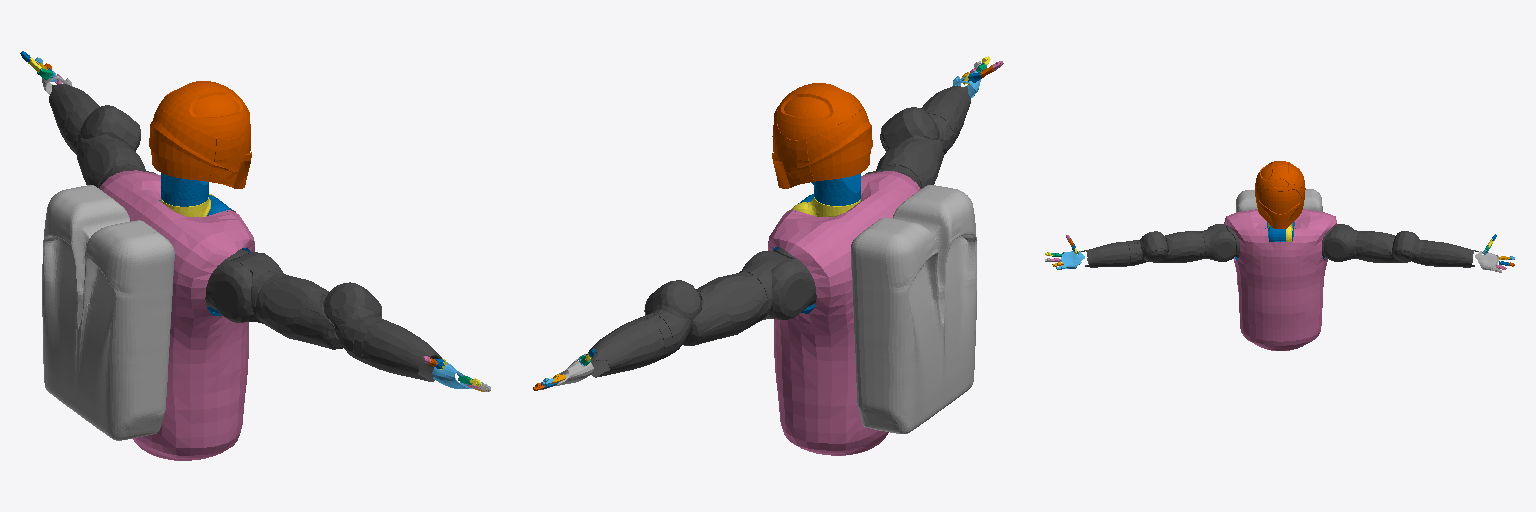
--- What the picture shows (computed from the rendered views, not written in the file) ---
Views: 3 orthographic renders of the robot side by side, from view 1: azimuth 30°, elevation 25°; view 2: azimuth 150°, elevation 25°; view 3: azimuth 270°, elevation 25°.
Model r2 with 74 links and 73 joints (42 revolute, 31 fixed), rooted at r2/world_ref, posed joints at zero except 2 at the middle of their limits (r2/left_arm/joint2 = -2.42, r2/right_arm/joint2 = 2.42).
Links seen in each view (by area): view 1: r2/backpack, r2/body_cover, r2/head, r2/right_upper_arm, r2/right_lower_arm, r2/right_shoulder_roll, r2/right_elbow, r2/left_upper_arm, r2/left_elbow, r2/left_lower_arm, r2/neck_upper, r2/right_shoulder_pitch; view 2: r2/backpack, r2/body_cover, r2/head, r2/left_upper_arm, r2/left_lower_arm, r2/left_shoulder_roll, r2/left_elbow, r2/right_upper_arm, r2/right_elbow, r2/right_lower_arm, r2/neck_upper, r2/left_shoulder_pitch (+1 smaller); view 3: r2/body_cover, r2/head, r2/right_upper_arm, r2/left_upper_arm, r2/right_lower_arm, r2/left_lower_arm, r2/left_shoulder_pitch, r2/right_shoulder_pitch, r2/backpack, r2/left_elbow, r2/right_elbow.
Link boxes in pixels (x1,y1,x2,y2): r2/backpack: [42, 185, 174, 440]; r2/body_cover: [99, 170, 254, 460]; r2/head: [149, 81, 251, 188]; r2/right_upper_arm: [256, 273, 381, 349]; r2/right_lower_arm: [353, 317, 441, 381]; r2/right_shoulder_roll: [205, 249, 255, 322]; r2/right_elbow: [324, 282, 380, 359]; r2/left_upper_arm: [77, 129, 145, 187]; r2/left_elbow: [66, 105, 140, 154]; r2/left_lower_arm: [49, 84, 99, 149]; r2/neck_upper: [161, 173, 208, 206]; r2/right_shoulder_pitch: [232, 252, 283, 323]; r2/backpack: [851, 185, 976, 433]; r2/body_cover: [768, 171, 920, 455]; r2/head: [772, 83, 872, 188]; r2/left_upper_arm: [644, 272, 767, 345]; r2/left_lower_arm: [586, 314, 672, 377]; r2/left_shoulder_roll: [768, 248, 816, 319]; r2/left_elbow: [645, 280, 701, 355]; r2/right_upper_arm: [876, 128, 943, 187]; r2/right_elbow: [881, 107, 953, 154]; r2/right_lower_arm: [921, 86, 970, 147]; r2/neck_upper: [811, 173, 860, 205]; r2/left_shoulder_pitch: [739, 251, 791, 320]; r2/body_cover: [1224, 209, 1336, 350]; r2/head: [1255, 161, 1305, 228]; r2/right_upper_arm: [1144, 231, 1204, 262]; r2/left_upper_arm: [1356, 231, 1415, 262]; r2/right_lower_arm: [1081, 241, 1136, 267]; r2/left_lower_arm: [1424, 241, 1478, 267]; r2/left_shoulder_pitch: [1324, 226, 1359, 261]; r2/right_shoulder_pitch: [1201, 226, 1235, 261]; r2/backpack: [1236, 189, 1322, 284]; r2/left_elbow: [1392, 231, 1427, 264]; r2/right_elbow: [1133, 231, 1167, 264].
Bounding box of the posed robot: 0.6249 × 2.36 × 1.02 m (x, y, z).
38 mesh visuals loaded from 25 distinct referenced files (25 Collada DAE).

URDF robot description (r2):
<?xml version="1.0" ?>
<!-- =================================================================================== -->
<!-- |    This document was autogenerated by xacro from ./robots/r2c5_control.xacro    | -->
<!-- |    EDITING THIS FILE BY HAND IS NOT RECOMMENDED                                 | -->
<!-- =================================================================================== -->
<robot name="r2" xmlns:xacro="http://www.ros.org/wiki/xacro">
  <link name="r2/world_ref"/>
  <joint name="r2/fixed/world_ref/robot_world" type="fixed">
    <parent link="r2/world_ref"/>
    <child link="r2/robot_world"/>
    <origin rpy="0 0 0" xyz="0 0 0"/>
  </joint>
  <link name="r2/robot_world">
    <inertial>
      <mass value="0.01"/>
      <inertia ixx="0.0001" ixy="0.0" ixz="0.0" iyy="0.0001" iyz="0.0" izz="0.0001"/>
    </inertial>
  </link>
  <joint name="r2/fixed/robot_world/robot_base" type="fixed">
    <parent link="r2/robot_world"/>
    <child link="r2/robot_base"/>
    <origin rpy="0.0 3.14159 3.14159" xyz="0.0 0.0 0.0"/>
  </joint>
  <link name="r2/robot_base">
    <inertial>
      <mass value="0.01"/>
      <inertia ixx="0.0001" ixy="0.0" ixz="0.0" iyy="0.0001" iyz="0.0" izz="0.0001"/>
    </inertial>
  </link>
  <material name="white">
    <color rgba="1.0 1.0 1.0 1.0"/>
  </material>
  <material name="dirty_white">
    <color rgba="0.322 0.322 0.322 1.0"/>
  </material>
  <material name="gold">
    <color rgba=".878 .49 0.008 1"/>
  </material>
  <material name="steel">
    <color rgba=".7 .7 .7 1"/>
  </material>
  <material name="blue">
    <color rgba="0 0 0.8 1"/>
  </material>
  <joint name="r2/fixed/robot_base/waist_mass" type="fixed">
    <parent link="r2/robot_base"/>
    <child link="r2/waist_mass"/>
    <origin rpy="0.0 0 0.0" xyz="0.0 0.0 -0.086855"/>
  </joint>
  <link name="r2/waist_mass">
    <inertial>
      <mass value="4.6259465"/>
      <origin rpy="0.0 0 0.0" xyz="-0.00012809088 0.000041480778 0.039080994"/>
      <inertia ixx="0.01684448" ixy="0.00021529806" ixz="-0.0000036013959" iyy="0.017313387" iyz="0.0" izz="0.028769348"/>
    </inertial>
  </link>
  <joint name="r2/waist/joint0" type="revolute">
    <parent link="r2/robot_base"/>
    <child link="r2/waist_center"/>
    <axis xyz="0 0 1"/>
    <origin rpy="0.0 0 0.0" xyz="0.0 0.0 0.0"/>
    <dynamics damping="10.0" friction="0.0"/>
    <limit effort="10000000.0" lower="-3.14" upper="3.14" velocity="1000"/>
  </joint>
  <!--includes mass properties of all torso componenents-->
  <link name="r2/waist_center">
    <visual>
      <geometry>
        <mesh filename="package://r2_description/meshes/r2_upperbody/Body.dae"/>
      </geometry>
      <origin rpy="-1.5708 0 -1.5708" xyz="0.02 0.05 -0.5625"/>
    </visual>
    <collision>
      <geometry>
        <mesh filename="package://r2_description/meshes/r2_upperbody/Body.dae"/>
      </geometry>
      <origin rpy="-1.5708 0 -1.5708" xyz="0.02 0.05 -0.5625"/>
    </collision>
    <inertial>
      <mass value="47.770842"/>
      <origin rpy="0.0 0 0.0" xyz="-0.020473299 0.0039268948 -0.36456539"/>
      <inertia ixx="1.9926945" ixy="-0.0069480619" ixz="-0.059104048" iyy="1.8449528" iyz="0.01958974" izz="0.69736445"/>
    </inertial>
  </link>
  <joint name="r2/fixed/waist_center/robot_reference" type="fixed">
    <parent link="r2/waist_center"/>
    <child link="r2/robot_reference"/>
    <origin rpy="0.0 0 0.0" xyz="0.1234 0.0 0.0"/>
  </joint>
  <joint name="r2/fixed/waist_center/body_cover" type="fixed">
    <parent link="r2/waist_center"/>
    <child link="r2/body_cover"/>
    <origin rpy="0.0 0.0 0.0" xyz="0 0.0 0.0"/>
  </joint>
  <joint name="r2/fixed/waist_center/backpack" type="fixed">
    <parent link="r2/waist_center"/>
    <child link="r2/backpack"/>
    <origin rpy="0.0 0.0 0.0" xyz="-0.145521 0.0 -0.421894"/>
  </joint>
  <joint name="r2/fixed/waist_center/left_shoulder_jr3" type="fixed">
    <parent link="r2/waist_center"/>
    <child link="r2/left_arm/shoulder/jr3"/>
    <origin rpy="0.0 0.0 1.8326" xyz="-0.0240898 -0.0996837 -0.413899"/>
  </joint>
  <joint name="r2/fixed/waist_center/right_shoulder_jr3" type="fixed">
    <parent link="r2/waist_center"/>
    <child link="r2/right_arm/shoulder/jr3"/>
    <origin rpy="0.0 0.0 -1.83259" xyz="-0.0240898 0.0996837 -0.413899"/>
  </joint>
  <link name="r2/robot_reference">
    <inertial>
      <mass value="0.01"/>
      <inertia ixx="0.0001" ixy="0.0" ixz="0.0" iyy="0.0001" iyz="0.0" izz="0.0001"/>
    </inertial>
  </link>
  <link name="r2/body_cover">
    <visual>
      <geometry>
        <mesh filename="package://r2_description/meshes/r2_upperbody/Body_Cover.dae"/>
      </geometry>
      <origin rpy="-1.5708 0 -1.5708" xyz="0.02 0.05 -0.5625"/>
    </visual>
    <collision>
      <geometry>
        <mesh filename="package://r2_description/meshes/r2_upperbody/Body_Cover.dae"/>
      </geometry>
      <origin rpy="-1.5708 0 -1.5708" xyz="0.02 0.05 -0.5625"/>
    </collision>
    <inertial>
      <mass value="0.1"/>
      <inertia ixx="0.001" ixy="0.0" ixz="0.0" iyy="0.001" iyz="0.0" izz="0.001"/>
    </inertial>
  </link>
  <link name="r2/backpack">
    <visual>
      <geometry>
        <mesh filename="package://r2_description/meshes/r2_upperbody/Backpack.dae"/>
      </geometry>
      <origin rpy="0 0 0.25" xyz="0.145521 0.0 -0.118106"/>
    </visual>
    <collision>
      <geometry>
        <mesh filename="package://r2_description/meshes/r2_upperbody/Backpack.dae"/>
      </geometry>
      <origin rpy="0 0 0.25" xyz="0.145521 0.0 -0.118106"/>
    </collision>
    <inertial>
      <mass value="23.505356"/>
      <origin rpy="0.0 0 0.0" xyz="-0.068110236 0.00026288234 -0.015523324"/>
      <inertia ixx="0.87608758" ixy="0.0031949152" ixz="-0.0042079052" iyy="0.57168416" iyz="0.0067562903" izz="0.41612859"/>
    </inertial>
  </link>
  <link name="r2/left_arm/shoulder/jr3">
    <inertial>
      <mass value="0.01"/>
      <inertia ixx="0.0001" ixy="0.0" ixz="0.0" iyy="0.0001" iyz="0.0" izz="0.0001"/>
    </inertial>
  </link>
  <link name="r2/right_arm/shoulder/jr3">
    <inertial>
      <mass value="0.01"/>
      <inertia ixx="0.0001" ixy="0.0" ixz="0.0" iyy="0.0001" iyz="0.0" izz="0.0001"/>
    </inertial>
  </link>
  <link name="r2/imu">
    <inertial>
      <mass value="0.01"/>
      <inertia ixx="0.0001" ixy="0.0" ixz="0.0" iyy="0.0001" iyz="0.0" izz="0.0001"/>
    </inertial>
  </link>
  <joint name="r2/fixed/robot_base/imu" type="fixed">
    <parent link="r2/waist_center"/>
    <child link="r2/imu"/>
    <origin rpy="1.5708 0 0" xyz="0.017351 -0.116179 -0.112236"/>
  </joint>
  <joint name="r2/neck/joint0" type="revolute">
    <parent link="r2/waist_center"/>
    <child link="r2/neck_lower"/>
    <origin rpy=" -1.5708 0.0 0.0 " xyz=" 0.08636 -0.0285749 -0.614172 "/>
    <dynamics damping="10.0" friction="0.0"/>
    <axis xyz="0 0 1"/>
    <limit effort="10000.0" lower="-0.7" upper="0.175" velocity="1000.0"/>
  </joint>
  <link name="r2/neck_lower">
    <visual>
      <geometry>
        <mesh filename="package://r2_description/meshes/r2_upperbody/Neck_Lower.dae"/>
      </geometry>
      <origin rpy="-1.5708 1.5708 0" xyz="0.0 0.0 0.0285749"/>
    </visual>
    <inertial>
      <mass value="1.531125"/>
      <origin rpy="0 0 0" xyz="-0.044614256 0.031785824 0.021419445"/>
      <inertia ixx="0.0032988044" ixy="0.0014889073" ixz="0.0004970659" iyy="0.0050478224" iyz="-0.00036827305" izz="0.0052160286"/>
    </inertial>
    <collision>
      <geometry>
        <mesh filename="package://r2_description/meshes/r2_upperbody/Neck_Lower.dae"/>
      </geometry>
      <origin rpy="-1.5708 1.5708 0" xyz="0.0 0.0 0.0285749"/>
    </collision>
  </link>
  <joint name="r2/neck/joint1" type="revolute">
    <parent link="r2/neck_lower"/>
    <child link="r2/neck_upper"/>
    <origin rpy=" -1.5708 0.0 0.0 " xyz=" -0.0762002 0.0762004 0.028575"/>
    <dynamics damping="10.0" friction="0.0"/>
    <axis xyz="0 0 1"/>
    <limit effort="10000.0" lower="-1.22" upper="1.22" velocity="1000.0"/>
  </joint>
  <link name="r2/neck_upper">
    <visual>
      <geometry>
        <mesh filename="package://r2_description/meshes/r2_upperbody/Neck_Upper.dae"/>
      </geometry>
      <origin rpy="0 0 1.5708" xyz="0.0762002 0 -0.0762004"/>
    </visual>
    <inertial>
      <mass value="2.234558"/>
      <origin rpy="0 0 0" xyz="0.0127259 0.0072291452 0.048896507"/>
      <inertia ixx="0.0074125667" ixy="-0.00042898316" ixz="-0.0014528455" iyy="0.0080268117" iyz="-0.00076230267" izz="0.00051467581"/>
    </inertial>
    <collision>
      <geometry>
        <mesh filename="package://r2_description/meshes/r2_upperbody/Neck_Upper.dae"/>
      </geometry>
      <origin rpy="0 0 1.5708" xyz="0.0762002 0 -0.0762004"/>
    </collision>
  </link>
  <joint name="r2/neck/joint2" type="revolute">
    <parent link="r2/neck_upper"/>
    <child link="r2/head"/>
    <origin rpy=" 1.5708 0.0 0.0 " xyz="0.0508 0.0074676 0.101587"/>
    <dynamics damping="10.0" friction="0.0"/>
    <axis xyz="0 0 1"/>
    <limit effort="10000.0" lower="-0.7" upper="0.175" velocity="1000.0"/>
  </joint>
  <link name="r2/head">
    <visual>
      <geometry>
        <mesh filename="package://r2_description/meshes/r2_upperbody/Head.dae"/>
      </geometry>
      <origin rpy="0 1.5708 0" xyz="0.0 0.07 0.0074676"/>
    </visual>
    <collision>
      <geometry>
        <mesh filename="package://r2_description/meshes/r2_upperbody/Head.dae"/>
      </geometry>
      <origin rpy="0 1.5708 0" xyz="0.0 0.07 0.0074676"/>
    </collision>
    <inertial>
      <mass value="5.8503785"/>
      <origin rpy="0 0 0" xyz="0.0048289919 0.074486518 0.013796703"/>
      <inertia ixx="0.045520172" ixy="0.0076844267" ixz="0.0005272352" iyy="0.035519354" iyz="0.001323319" izz="0.044699541"/>
    </inertial>
  </link>
  <joint name="r2/fixed/head/vision_base" type="fixed">
    <parent link="r2/head"/>
    <child link="r2/head/vision_base"/>
    <origin rpy=" 1.5708 0.0 0.0 " xyz=" 0.0 -0.058 0.0074676"/>
  </joint>
  <link name="r2/head/vision_base">
    <inertial>
      <mass value=".1"/>
      <inertia ixx=".0010" ixy="0.0" ixz="0.0" iyy=".0010" iyz="0.0" izz=".0010"/>
    </inertial>
  </link>
  <joint name="r2/fixed/head/vision_base/asus_frame" type="fixed">
    <parent link="r2/head/vision_base"/>
    <child link="r2/head/asus_frame"/>
    <origin rpy="-3.142 -0.071 0" xyz="0.12 -0.015 -0.14"/>
  </joint>
  <link name="r2/head/asus_frame">
    <inertial>
      <mass value="0.01"/>
      <inertia ixx="0.0001" ixy="0.0" ixz="0.0" iyy="0.0001" iyz="0.0" izz="0.0001"/>
    </inertial>
  </link>
  <joint name="r2/fixed/head/asus_frame/asus_depth_frame" type="fixed">
    <parent link="r2/head/asus_frame"/>
    <child link="r2/head/asus_depth_frame"/>
    <origin rpy="0 0 0 " xyz="0 -0.02 0 "/>
  </joint>
  <link name="r2/head/asus_depth_frame">
    <inertial>
      <mass value="0.01"/>
      <inertia ixx="0.0001" ixy="0.0" ixz="0.0" iyy="0.0001" iyz="0.0" izz="0.0001"/>
    </inertial>
  </link>
  <joint name="r2/fixed/head/vision_base/vision_center_frame" type="fixed">
    <parent link="r2/head/vision_base"/>
    <child link="r2/head/vision_center_frame"/>
    <dynamics damping="1.0"/>
    <origin rpy="1.5708 -1.5708 1.5708" xyz=" 0.066675 0.0 -0.116205 "/>
  </joint>
  <link name="r2/head/vision_center_frame">
    <inertial>
      <mass value="0.01"/>
      <inertia ixx="0.0001" ixy="0.0" ixz="0.0" iyy="0.0001" iyz="0.0" izz="0.0001"/>
    </inertial>
  </link>
  <joint name="r2/fixed/head/vision_center_frame/left_camera_frame" type="fixed">
    <parent link="r2/head/vision_center_frame"/>
    <child link="r2/head/left_camera_frame"/>
    <dynamics damping="1.0"/>
    <origin rpy="0 0 0" xyz="0.0087 0.04887 0.01789"/>
  </joint>
  <link name="r2/head/left_camera_frame">
    <inertial>
      <mass value="0.01"/>
      <inertia ixx="0.0001" ixy="0.0" ixz="0.0" iyy="0.0001" iyz="0.0" izz="0.0001"/>
    </inertial>
  </link>
  <joint name="r2/fixed/head/vision_center_frame/left_camera_frame/left_camera" type="fixed">
    <parent link="r2/head/left_camera_frame"/>
    <child link="r2/head/grasshopper/left_camera"/>
    <dynamics damping="1.0"/>
    <origin rpy="0 0 -1.5708" xyz="0 0 0"/>
  </joint>
  <link name="r2/head/grasshopper/left_camera">
    <inertial>
      <mass value="0.01"/>
      <inertia ixx="0.0001" ixy="0.0" ixz="0.0" iyy="0.0001" iyz="0.0" izz="0.0001"/>
    </inertial>
  </link>
  <joint name="r2/fixed/head/vision_center_frame/right_camera_frame" type="fixed">
    <parent link="r2/head/vision_center_frame"/>
    <child link="r2/head/right_camera_frame"/>
    <dynamics damping="1.0"/>
    <origin rpy="0 0 0" xyz="0.0087 -0.04887 0.01789"/>
  </joint>
  <link name="r2/head/right_camera_frame">
    <inertial>
      <mass value="0.01"/>
      <inertia ixx="0.0001" ixy="0.0" ixz="0.0" iyy="0.0001" iyz="0.0" izz="0.0001"/>
    </inertial>
  </link>
  <joint name="r2/fixed/head/vision_center_frame/right_camera_frame/right_camera" type="fixed">
    <parent link="r2/head/right_camera_frame"/>
    <child link="r2/head/grasshopper/right_camera"/>
    <dynamics damping="1.0"/>
    <origin rpy="0 0 -1.5708" xyz="0 0 0"/>
  </joint>
  <link name="r2/head/grasshopper/right_camera">
    <inertial>
      <mass value="0.01"/>
      <inertia ixx="0.0001" ixy="0.0" ixz="0.0" iyy="0.0001" iyz="0.0" izz="0.0001"/>
    </inertial>
  </link>
  <joint name="r2/left_arm/joint0" type="revolute">
    <parent link="r2/left_arm/shoulder/jr3"/>
    <child link="r2/left_shoulder_roll"/>
    <origin rpy="0.0 -1.5708 0.0" xyz="0.0054611 0.0 -0.13041"/>
    <axis xyz="0 0 1"/>
    <dynamics damping="10.0" friction="0.0"/>
    <limit effort="100.0" lower="-2.8270" upper="2.8270" velocity="1000"/>
  </joint>
  <link name="r2/left_shoulder_roll">
    <visual>
      <geometry>
        <mesh filename="package://r2_description/meshes/r2_upperbody/Left_Shoulder_Upper.dae"/>
      </geometry>
      <material name="dirty_white"/>
      <origin rpy="0.0 0.0 3.1416" xyz="0.0 0.0 -0.01274"/>
    </visual>
    <collision>
      <geometry>
        <mesh filename="package://r2_description/meshes/r2_upperbody/Left_Shoulder_Upper.dae"/>
      </geometry>
      <origin rpy="0.0 0.0 3.1416" xyz="0.0 0.0 -0.01274"/>
    </collision>
    <inertial>
      <origin xyz="0.00017093234 -0.0087284787   -0.10884506"/>
      <mass value="7.070314"/>
      <inertia ixx="0.076584602" ixy="0.000086319951" ixz="0.00054609047" iyy="0.08016999" iyz="0.0066841031" izz="0.02390013"/>
    </inertial>
  </link>
  <joint name="r2/left_arm/joint1" type="revolute">
    <parent link="r2/left_shoulder_roll"/>
    <child link="r2/left_shoulder_pitch"/>
    <origin rpy=" 0.0 -1.5708 1.5708" xyz=" 0.0 0.0466596 0.210022 "/>
    <axis xyz="0 0 1"/>
    <dynamics damping="10.0" friction="0.0"/>
    <limit effort="100.0" lower="-1.6758" upper="0.4292" velocity="1000"/>
  </joint>
  <link name="r2/left_shoulder_pitch">
    <visual>
      <geometry>
        <mesh filename="package://r2_description/meshes/r2_upperbody/Left_Shoulder_Lower.dae"/>
      </geometry>
      <material name="dirty_white"/>
      <origin rpy="0.0 0.0 0.0" xyz="0.0 0.0 0.0466596"/>
    </visual>
    <collision>
      <geometry>
        <mesh filename="package://r2_description/meshes/r2_upperbody/Left_Shoulder_Lower.dae"/>
      </geometry>
      <origin rpy="0.0 0.0 0.0" xyz="0.0 0.0 0.0466596"/>
    </collision>
    <inertial>
      <origin xyz="0.034871718 0.00026989995  -0.056391797"/>
      <mass value="4.7275387"/>
      <inertia ixx="0.01281093" ixy="-0.000025211205" ixz="-0.0019887882" iyy="0.026994354" iyz="-0.000056988895" izz="0.028670313"/>
    </inertial>
  </link>
  <joint name="r2/left_arm/joint2" type="revolute">
    <parent link="r2/left_shoulder_pitch"/>
    <child link="r2/left_upper_arm"/>
    <origin rpy="-1.5708 0.0 -1.5708" xyz="0.169324 0 0.0458976"/>
    <axis xyz="0 0 1"/>
    <dynamics damping="10.0" friction="0.0"/>
    <limit effort="100.0" lower="-4.5028" upper="-0.3318" velocity="1000"/>
  </joint>
  <link name="r2/left_upper_arm">
    <visual>
      <geometry>
        <mesh filename="package://r2_description/meshes/r2_upperbody/Left_Upper_Arm.dae"/>
      </geometry>
      <material name="dirty_white"/>
      <origin rpy="0.0 0.0 0.0" xyz="0.0 0.0 -0.067724"/>
    </visual>
    <collision>
      <geometry>
        <mesh filename="package://r2_description/meshes/r2_upperbody/Left_Upper_Arm.dae"/>
      </geometry>
      <origin rpy="0.0 0.0 0.0" xyz="0.0 0.0 -0.067724"/>
    </collision>
    <inertial>
      <origin xyz="0.011979384 -0.0073390714 0.079871897"/>
      <mass value="4.9025709"/>
      <inertia ixx="0.044036190" ixy="0.0013812407" ixz="-0.0068318982" iyy="0.048358309" iyz="0.0035598559" izz="0.016564943"/>
    </inertial>
  </link>
  <joint name="r2/left_arm/joint3" type="revolute">
    <parent link="r2/left_upper_arm"/>
    <child link="r2/left_elbow"/>
    <origin rpy="0.0 -1.5708 1.5708" xyz="0.05334 0.0313243 0.185006"/>
    <axis xyz="0 0 1"/>
    <dynamics damping="1.0" friction="0.0"/>
    <limit effort="100.0" lower="-2.7930" upper="0.0" velocity="1000"/>
  </joint>
  <link name="r2/left_elbow">
    <visual>
      <geometry>
        <mesh filename="package://r2_description/meshes/r2_upperbody/Left_Elbow.dae"/>
      </geometry>
      <material name="dirty_white"/>
      <origin rpy="0 0.0 0" xyz="0 0 0.0313243"/>
    </visual>
    <collision>
      <geometry>
        <mesh filename="package://r2_description/meshes/r2_upperbody/Left_Elbow.dae"/>
      </geometry>
      <origin rpy="0 0.0 0" xyz="0.0 0.0 0.0313243"/>
    </collision>
    <inertial>
      <origin xyz="0.035398630 0.025517855  -0.036241795"/>
      <mass value="2.3377006"/>
      <inertia ixx="0.0067529558" ixy="-0.0026092481" ixz="-0.00060380235" iyy="0.0080987220" iyz="-0.00047453566" izz="0.009863562"/>
    </inertial>
  </link>
  <joint name="r2/left_arm/joint4" type="revolute">
    <parent link="r2/left_elbow"/>
    <child link="r2/left_joint4_output"/>
    <origin rpy="-0.9550 1.5708 -0.9550" xyz="0.0541223 0.0533300 0.0305397"/>
    <axis xyz="0 0 1"/>
    <dynamics damping="1.0" friction="0.0"/>
    <limit effort="100.0" lower="-1.5360" upper="4.6770" velocity="1000"/>
  </joint>
  <link name="r2/left_joint4_output">
    <inertial>
      <mass value="0.01"/>
      <inertia ixx="0.0001" ixy="0.0" ixz="0.0" iyy="0.0001" iyz="0.0" izz="0.0001"/>
    </inertial>
  </link>
  <joint name="r2/fixed/left_lower_arm/left_forearm_jr3" type="fixed">
    <parent link="r2/left_joint4_output"/>
    <child link="r2/left_arm/forearm/jr3"/>
    <origin rpy="3.1416 0.0 0.78539" xyz="0.0 0.0 0.0897574"/>
  </joint>
  <link name="r2/left_arm/forearm/jr3">
    <inertial>
      <mass value="0.01"/>
      <inertia ixx="0.0001" ixy="0.0" ixz="0.0" iyy="0.0001" iyz="0.0" izz="0.0001"/>
    </inertial>
  </link>
  <joint name="r2/fixed/left_lower_arm/left_forearm" type="fixed">
    <parent link="r2/left_arm/forearm/jr3"/>
    <child link="r2/left_lower_arm"/>
    <origin rpy="3.1416 0.0 0.7854" xyz="0.0 0.0 0.0897574"/>
  </joint>
  <link name="r2/left_lower_arm">
    <visual>
      <geometry>
        <mesh filename="package://r2_description/meshes/r2_upperbody/Left_Forearm.dae"/>
      </geometry>
      <material name="dirty_white"/>
      <origin rpy="0 0 1.5708" xyz="0 0.0 0.0458777"/>
    </visual>
    <collision>
      <geometry>
        <mesh filename="package://r2_description/meshes/r2_upperbody/Left_Forearm.dae"/>
      </geometry>
      <origin rpy="0 0 1.5708" xyz="0 0.0 0.0458777"/>
    </collision>
    <inertial>
      <origin xyz="0.0039950818 0.00044312736  0.16275601"/>
      <mass value="8.1525875"/>
      <inertia ixx="0.10706156" ixy="0.00070538028" ixz="-0.0061176777" iyy="0.11007507" iyz="0.0020551081" izz="0.015240452"/>
    </inertial>
  </link>
  <joint name="r2/left_arm/wrist/pitch" type="revolute">
    <parent link="r2/left_lower_arm"/>
    <child link="r2/left_wrist_pitch"/>
    <origin rpy="0 -1.5708 0.0 " xyz="0.000616510 0 0.301768"/>
    <axis xyz="0 0 1"/>
    <dynamics damping="1.0" friction="0.0"/>
    <limit effort="100.0" lower="-0.8" upper="0.8" velocity="1000"/>
  </joint>
  <link name="r2/left_wrist_pitch">
    <inertial>
      <origin xyz="0.0 0.0 0.0"/>
      <mass value="0.01"/>
      <inertia ixx="0.0001" ixy="0.0" ixz="0.0" iyy="0.0001" iyz="0.0" izz="0.0001"/>
    </inertial>
  </link>
  <joint name="r2/left_arm/wrist/yaw" type="revolute">
    <parent link="r2/left_wrist_pitch"/>
    <child link="r2/left_wrist_yaw"/>
    <origin rpy="1.5708 0.0646 -0.0802" xyz="0.00635 0 0.00041451"/>
    <axis xyz="0 0 1"/>
    <dynamics damping="1.0" friction="0.0"/>
    <limit effort="100.0" lower="-0.75" upper="0.15" velocity="1000"/>
  </joint>
  <link name="r2/left_wrist_yaw">
    <inertial>
      <origin xyz="0.0 0.0 0.0"/>
      <mass value="0.01"/>
      <inertia ixx="0.0001" ixy="0.0" ixz="0.0" iyy="0.0001" iyz="0.0" izz="0.0001"/>
    </inertial>
  </link>
  <joint name="r2/fixed/left_wrist_yaw/left_palm" type="fixed">
    <parent link="r2/left_wrist_yaw"/>
    <child link="r2/left_palm"/>
    <origin rpy=" 0.0 0.0 0" xyz=" 0.0 0.0 0.0 "/>
  </joint>
  <link name="r2/left_palm">
    <visual>
      <geometry>
        <mesh filename="package://r2_description/meshes/r2_upperbody/Left_Palm.dae"/>
      </geometry>
      <origin rpy="3.1416 0 1.5708" xyz="0.0 0.0 0.0"/>
    </visual>
    <collision>
      <geometry>
        <mesh filename="package://r2_description/meshes/r2_upperbody/Left_Palm.dae"/>
      </geometry>
      <origin rpy="3.1416 0 1.5708" xyz="0.0 0.0 0.0"/>
    </collision>
    <inertial>
      <mass value="0.01"/>
      <inertia ixx="0.0001" ixy="0.0" ixz="0.0" iyy="0.0001" iyz="0.0" izz="0.0001"/>
    </inertial>
  </link>
  <!--
  <property name="left_arm_hand_index_j3_damping" value= "0.1" />
  <property name="left_arm_hand_index_j3_friction" value= "0.0" />
-->
  <!--
  <property name="left_arm_hand_middle_j3_damping" value= "0.1" />
  <property name="left_arm_hand_middle_j3_friction" value= "0.0" />
-->
  <!--
  <property name="left_arm_hand_ring_j1_damping" value= "0.1" />
  <property name="left_arm_hand_ring_j1_friction" value= "0.0" />
  <property name="left_arm_hand_ring_j2_damping" value= "0.1" />
  <property name="left_arm_hand_ring_j2_friction" value= "0.0" />
-->
  <!--
  <property name="left_arm_hand_little_j1_damping" value= "0.1" />
  <property name="left_arm_hand_little_j1_friction" value= "0.0" />
  <property name="left_arm_hand_little_j2_damping" value= "0.1" />
  <property name="left_arm_hand_little_j2_friction" value= "0.0" />
-->
  <joint name="r2/left_arm/hand/thumb/roll" type="revolute">
    <parent link="r2/left_wrist_yaw"/>
    <child link="r2/left_thumb_base"/>
    <origin rpy=" -1.5708 0.0 1.30899702752 " xyz=" 0.03302 0.03048 0.00635 "/>
    <axis xyz="0 0 1"/>
    <limit effort="10000000.0" lower="-4" upper="4" velocity="1000"/>
    <dynamics damping="0.1" friction="0.0"/>
  </joint>
  <joint name="r2/fixed/left_index_base/left_index_base" type="fixed">
    <parent link="r2/left_wrist_yaw"/>
    <child link="r2/left_index_base"/>
    <origin rpy=" 0.0 0.0 0.122172725275 " xyz=" 0.0994646728 0.0271119346 -0.0161544 "/>
  </joint>
  <joint name="r2/left_arm/hand/index/yaw" type="revolute">
    <parent link="r2/left_index_base"/>
    <child link="r2/left_index_yaw"/>
    <origin rpy="0.0 0.0 0.0" xyz="0.0 0.0 0.0"/>
    <axis xyz="0 0 1"/>
    <limit effort="10000000.0" lower="-4" upper="4" velocity="1000"/>
    <dynamics damping="0.1" friction="0.0"/>
  </joint>
  <joint name="r2/fixed/left_middle_base/left_middle_base" type="fixed">
    <parent link="r2/left_wrist_yaw"/>
    <child link="r2/left_middle_base"/>
    <origin rpy=" 0.0 0.0 0.0 " xyz=" 0.10646537 0.00254 -0.0161544 "/>
  </joint>
  <joint name="r2/left_arm/hand/middle/yaw" type="revolute">
    <parent link="r2/left_middle_base"/>
    <child link="r2/left_middle_yaw"/>
    <origin rpy="0.0 0.0 0.0" xyz="0.0 0.0 0.0"/>
    <axis xyz="0 0 1"/>
    <limit effort="10000000.0" lower="-4" upper="4" velocity="1000"/>
    <dynamics damping="0.1" friction="0.0"/>
  </joint>
  <joint name="r2/left_arm/hand/ringlittle/ring" type="revolute">
    <parent link="r2/left_wrist_yaw"/>
    <child link="r2/left_ring_proximal"/>
    <origin rpy=" 1.5708 -0.0 -0.122172725275 " xyz=" 0.1084570602 -0.0197673468 -0.012319 "/>
    <axis xyz="0 0 1"/>
    <limit effort="10000000.0" lower="-4" upper="4" velocity="1000"/>
    <dynamics damping="0.1" friction="0.0"/>
  </joint>
  <joint name="r2/left_arm/hand/ringlittle/little" type="revolute">
    <parent link="r2/left_wrist_yaw"/>
    <child link="r2/left_little_proximal"/>
    <origin rpy=" 1.60570321374 -0.0872667473393 -0.17453258148 " xyz=" 0.094635701 -0.0403792436 -0.0060878212 "/>
    <axis xyz="0 0 1"/>
    <limit effort="10000000.0" lower="-4" upper="4" velocity="1000"/>
    <dynamics damping="0.1" friction="0.0"/>
  </joint>
  <link name="r2/left_thumb_base">
    <inertial>
      <mass value=".05"/>
      <inertia ixx=".0010" ixy="0.0" ixz="0.0" iyy=".0010" iyz="0.0" izz=".0010"/>
    </inertial>
  </link>
  <joint name="r2/fixed/left_thumb_base/left_thumb_proximal" type="fixed">
    <parent link="r2/left_thumb_base"/>
    <child link="r2/left_thumb_proximal"/>
    <origin rpy=" -1.5708 -0.0 0.0 " xyz=" 0.011938 0.0 0.0 "/>
  </joint>
  <link name="r2/left_thumb_proximal">
    <inertial>
      <mass value=".0010"/>
      <inertia ixx=".0010" ixy="0.0" ixz="0.0" iyy=".0010" iyz="0.0" izz=".0010"/>
    </inertial>
    <visual>
      <geometry>
        <mesh filename="package://r2_description/meshes/r2_upperbody/Left_Thumb_Carp.dae"/>
      </geometry>
      <origin rpy="-1.5708 0 0" xyz="-0.01 0.0 0.0"/>
    </visual>
    <collision>
      <geometry>
        <mesh filename="package://r2_description/meshes/r2_upperbody/Left_Thumb_Carp.dae"/>
      </geometry>
      <origin rpy="-1.5708 0 0" xyz="-0.01 0.0 0.0"/>
    </collision>
  </link>
  <joint name="r2/left_arm/hand/thumb/proximal" type="revolute">
    <parent link="r2/left_thumb_proximal"/>
    <child link="r2/left_thumb_medial_prime"/>
    <origin rpy=" 0.0 0.0 0.0 " xyz=" 0.0 0.0 0.0 "/>
    <axis xyz="0 0 1"/>
    <limit effort="10000000.0" lower="-4" upper="4" velocity="1000"/>
    <dynamics damping="0.1" friction="0.0"/>
  </joint>
  <link name="r2/left_thumb_medial_prime">
    <inertial>
      <mass value=".0010"/>
      <inertia ixx=".0010" ixy="0.0" ixz="0.0" iyy=".0010" iyz="0.0" izz=".0010"/>
    </inertial>
    <visual>
      <geometry>
        <mesh filename="package://r2_description/meshes/r2_upperbody/Left_Thumb_MtCar.dae"/>
      </geometry>
      <origin rpy="-1.5708 -1.5708 0" xyz="-0.0 0 0.0"/>
    </visual>
    <collision>
      <geometry>
        <mesh filename="package://r2_description/meshes/r2_upperbody/Left_Thumb_MtCar.dae"/>
      </geometry>
      <origin rpy="-1.5708 -1.5708 0" xyz="0.0 0.0 0.0"/>
    </collision>
  </link>
  <joint name="r2/left_arm/hand/thumb/medial" type="revolute">
    <parent link="r2/left_thumb_medial_prime"/>
    <child link="r2/left_thumb_medial"/>
    <origin rpy=" -0.698132284627 -0.0 0.0 " xyz=" 0.030734 -0.001905 0.00254 "/>
    <axis xyz="0 0 1"/>
    <limit effort="10000000.0" lower="-4" upper="4" velocity="1000"/>
    <dynamics damping="0.1" friction="0.0"/>
  </joint>
  <link name="r2/left_thumb_medial">
    <inertial>
      <mass value=".0010"/>
      <inertia ixx=".0010" ixy="0.0" ixz="0.0" iyy=".0010" iyz="0.0" izz=".0010"/>
    </inertial>
    <visual>
      <geometry>
        <mesh filename="package://r2_description/meshes/r2_upperbody/Thumb_Proximal.dae"/>
      </geometry>
      <origin rpy="3.1416 0 1.5708" xyz="0.0 0.0 0.0"/>
    </visual>
    <collision>
      <geometry>
        <mesh filename="package://r2_description/meshes/r2_upperbody/Thumb_Proximal.dae"/>
      </geometry>
      <origin rpy="3.1416 0 1.5708" xyz="0.0 0.0 0.0"/>
    </collision>
  </link>
  <joint name="r2/left_arm/hand/thumb/distal" type="revolute">
    <parent link="r2/left_thumb_medial"/>
    <child link="r2/left_thumb_distal"/>
    <origin rpy=" 0.0 0.0 0.0 " xyz=" 0.03937 0.0 0.0 "/>
    <axis xyz="0 0 1"/>
    <limit effort="10000000.0" lower="-4" upper="4" velocity="1000"/>
    <dynamics damping="0.1" friction="0.0"/>
  </joint>
  <link name="r2/left_thumb_distal">
    <inertial>
      <mass value=".0010"/>
      <inertia ixx=".0010" ixy="0.0" ixz="0.0" iyy=".0010" iyz="0.0" izz=".0010"/>
    </inertial>
    <visual>
      <geometry>
        <mesh filename="package://r2_description/meshes/r2_upperbody/Thumb_Dist.dae"/>
      </geometry>
      <origin rpy="3.1416 3.1416 0" xyz="0.0 0.0 0.0"/>
    </visual>
    <collision>
      <geometry>
        <mesh filename="package://r2_description/meshes/r2_upperbody/Thumb_Dist.dae"/>
      </geometry>
      <origin rpy="3.1416 3.1416 0" xyz="0.0 0.0 0.0"/>
    </collision>
  </link>
  <joint name="r2/fixed/left_thumb_distal/left_thumb_tip" type="fixed">
    <parent link="r2/left_thumb_distal"/>
    <child link="r2/left_thumb_tip"/>
    <origin rpy=" 0.0 0.0 0.0 " xyz=" 0.03302 0.0 0.0 "/>
  </joint>
  <link name="r2/left_thumb_tip">
    <inertial>
      <mass value=".0010"/>
      <inertia ixx=".0010" ixy="0.0" ixz="0.0" iyy=".0010" iyz="0.0" izz=".0010"/>
    </inertial>
  </link>
  <link name="r2/left_index_base">
    <inertial>
      <mass value=".0010"/>
      <inertia ixx=".0010" ixy="0.0" ixz="0.0" iyy=".0010" iyz="0.0" izz=".0010"/>
    </inertial>
  </link>
  <link name="r2/left_index_yaw">
    <inertial>
      <mass value=".0010"/>
      <inertia ixx=".0010" ixy="0.0" ixz="0.0" iyy=".0010" iyz="0.0" izz=".0010"/>
    </inertial>
  </link>
  <joint name="r2/left_arm/hand/index/proximal" type="revolute">
    <parent link="r2/left_index_yaw"/>
    <child link="r2/left_index_proximal"/>
    <origin rpy=" 1.5708 0.0 0.0 " xyz=" 0.009652 0.0 0.0 "/>
    <axis xyz="0 0 1"/>
    <limit effort="10000000.0" lower="-4" upper="4" velocity="1000"/>
    <dynamics damping="0.1" friction="0.0"/>
  </joint>
  <link name="r2/left_index_proximal">
    <inertial>
      <mass value=".0010"/>
      <inertia ixx=".0010" ixy="0.0" ixz="0.0" iyy=".0010" iyz="0.0" izz=".0010"/>
    </inertial>
    <visual>
      <geometry>
        <mesh filename="package://r2_description/meshes/r2_upperbody/Finger_Proximal.dae"/>
      </geometry>
      <origin rpy="0 0 1.5708" xyz="0.0 0.0 0.0"/>
    </visual>
    <collision>
      <geometry>
        <mesh filename="package://r2_description/meshes/r2_upperbody/Finger_Proximal.dae"/>
      </geometry>
      <origin rpy="0 0 1.5708" xyz="0.0 0.0 0.0"/>
    </collision>
  </link>
  <joint name="r2/left_arm/hand/index/medial" type="revolute">
    <parent link="r2/left_index_proximal"/>
    <child link="r2/left_index_medial"/>
    <origin rpy=" 0.0 0.0 0.0 " xyz=" 0.04445 0.0 0.0 "/>
    <axis xyz="0 0 1"/>
    <limit effort="10000000.0" lower="-4" upper="4" velocity="1000"/>
    <dynamics damping="0.1" friction="0.0"/>
  </joint>
  <link name="r2/left_index_medial">
    <inertial>
      <mass value=".0010"/>
      <inertia ixx=".0010" ixy="0.0" ixz="0.0" iyy=".0010" iyz="0.0" izz=".0010"/>
    </inertial>
    <visual>
      <geometry>
        <mesh filename="package://r2_description/meshes/r2_upperbody/Finger_Mid.dae"/>
      </geometry>
      <origin rpy="3.1416 0 1.5708" xyz="0.0 0.0 0.0"/>
    </visual>
    <collision>
      <geometry>
        <mesh filename="package://r2_description/meshes/r2_upperbody/Finger_Mid.dae"/>
      </geometry>
      <origin rpy="3.1416 0 1.5708" xyz="0.0 0.0 0.0"/>
    </collision>
  </link>
  <link name="r2/left_middle_base">
    <inertial>
      <mass value=".0010"/>
      <inertia ixx=".0010" ixy="0.0" ixz="0.0" iyy=".0010" iyz="0.0" izz=".0010"/>
    </inertial>
  </link>
  <link name="r2/left_middle_yaw">
    <inertial>
      <mass value=".0010"/>
      <inertia ixx=".0010" ixy="0.0" ixz="0.0" iyy=".0010" iyz="0.0" izz=".0010"/>
    </inertial>
  </link>
  <joint name="r2/left_arm/hand/middle/proximal" type="revolute">
    <parent link="r2/left_middle_yaw"/>
    <child link="r2/left_middle_proximal"/>
    <origin rpy=" 1.5708 0.0 0.0 " xyz=" 0.009652 0.0 0.0 "/>
    <axis xyz="0 0 1"/>
    <limit effort="10000000.0" lower="-4" upper="4" velocity="1000"/>
    <dynamics damping="0.1" friction="0.0"/>
  </joint>
  <link name="r2/left_middle_proximal">
    <inertial>
      <mass value=".0010"/>
      <inertia ixx=".0010" ixy="0.0" ixz="0.0" iyy=".0010" iyz="0.0" izz=".0010"/>
    </inertial>
    <visual>
      <geometry>
        <mesh filename="package://r2_description/meshes/r2_upperbody/Finger_Proximal.dae"/>
      </geometry>
      <origin rpy="0 0 1.5708" xyz="0.0 0.0 0.0"/>
    </visual>
    <collision>
      <geometry>
        <mesh filename="package://r2_description/meshes/r2_upperbody/Finger_Proximal.dae"/>
      </geometry>
      <origin rpy="0 0 1.5708" xyz="0.0 0.0 0.0"/>
    </collision>
  </link>
  <joint name="r2/left_arm/hand/middle/medial" type="revolute">
    <parent link="r2/left_middle_proximal"/>
    <child link="r2/left_middle_medial"/>
    <origin rpy=" 0.0 0.0 0.0 " xyz=" 0.04445 0.0 0.0 "/>
    <axis xyz="0 0 1"/>
    <limit effort="10000000.0" lower="-4" upper="4" velocity="1000"/>
    <dynamics damping="0.1" friction="0.0"/>
  </joint>
  <link name="r2/left_middle_medial">
    <inertial>
      <mass value=".0010"/>
      <inertia ixx=".0010" ixy="0.0" ixz="0.0" iyy=".0010" iyz="0.0" izz=".0010"/>
    </inertial>
    <visual>
      <geometry>
        <mesh filename="package://r2_description/meshes/r2_upperbody/Finger_Mid.dae"/>
      </geometry>
      <origin rpy="3.1416 0 1.5708" xyz="0.0 0.0 0.0"/>
    </visual>
    <collision>
      <geometry>
        <mesh filename="package://r2_description/meshes/r2_upperbody/Finger_Mid.dae"/>
      </geometry>
      <origin rpy="3.1416 0 1.5708" xyz="0.0 0.0 0.0"/>
    </collision>
  </link>
  <link name="r2/left_ring_proximal">
    <inertial>
      <mass value=".0010"/>
      <inertia ixx=".0010" ixy="0.0" ixz="0.0" iyy=".0010" iyz="0.0" izz=".0010"/>
    </inertial>
    <visual>
      <geometry>
        <mesh filename="package://r2_description/meshes/r2_upperbody/Finger_Proximal.dae"/>
      </geometry>
      <origin rpy="0 0 1.5708" xyz="0.0 0.0 0.0"/>
    </visual>
    <collision>
      <geometry>
        <mesh filename="package://r2_description/meshes/r2_upperbody/Finger_Proximal.dae"/>
      </geometry>
      <origin rpy="0 0 1.5708" xyz="0.0 0.0 0.0"/>
    </collision>
  </link>
  <link name="r2/left_little_proximal">
    <inertial>
      <mass value=".0010"/>
      <inertia ixx=".0010" ixy="0.0" ixz="0.0" iyy=".0010" iyz="0.0" izz=".0010"/>
    </inertial>
    <visual>
      <geometry>
        <mesh filename="package://r2_description/meshes/r2_upperbody/Finger_Proximal.dae"/>
      </geometry>
      <origin rpy="0 0 1.5708" xyz="0.0 0.0 0.0"/>
    </visual>
    <collision>
      <geometry>
        <mesh filename="package://r2_description/meshes/r2_upperbody/Finger_Proximal.dae"/>
      </geometry>
      <origin rpy="0 0 1.5708" xyz="0.0 0.0 0.0"/>
    </collision>
  </link>
  <joint name="r2/right_arm/joint0" type="revolute">
    <parent link="r2/right_arm/shoulder/jr3"/>
    <child link="r2/right_shoulder_roll"/>
    <origin rpy="0.0 -1.5708 0.0" xyz="0.0054611 0.0 -0.13041"/>
    <axis xyz="0 0 1"/>
    <dynamics damping="10.0" friction="0.0"/>
    <limit effort="100.0" lower="-2.8270" upper="2.8270" velocity="1000"/>
  </joint>
  <link name="r2/right_shoulder_roll">
    <visual>
      <geometry>
        <mesh filename="package://r2_description/meshes/r2_upperbody/Right_Shoulder_Upper.dae"/>
      </geometry>
      <material name="dirty_white"/>
      <origin rpy="0.0 0.0 -2.4624" xyz="0.0 0.0 -0.07734"/>
    </visual>
    <collision>
      <geometry>
        <mesh filename="package://r2_description/meshes/r2_upperbody/Right_Shoulder_Upper.dae"/>
      </geometry>
      <origin rpy="0.0 0.0 -2.4624" xyz="0.0 0.0 -0.07234"/>
    </collision>
    <inertial>
      <origin xyz="0.00017093234 -0.0087284787   -0.10884506"/>
      <mass value="7.070314"/>
      <inertia ixx="0.076584602" ixy="0.000086319951" ixz="0.00054609047" iyy="0.08016999" iyz="0.0066841031" izz="0.02390013"/>
    </inertial>
  </link>
  <joint name="r2/right_arm/joint1" type="revolute">
    <parent link="r2/right_shoulder_roll"/>
    <child link="r2/right_shoulder_pitch"/>
    <origin rpy=" 0.0 -1.5708 1.5708" xyz=" 0.0 -0.0466596 0.210022 "/>
    <axis xyz="0 0 1"/>
    <dynamics damping="10.0" friction="0.0"/>
    <limit effort="100.0" lower="-1.6758" upper="0.4292" velocity="1000"/>
  </joint>
  <link name="r2/right_shoulder_pitch">
    <visual>
      <geometry>
        <mesh filename="package://r2_description/meshes/r2_upperbody/Right_Shoulder_Lower.dae"/>
      </geometry>
      <material name="dirty_white"/>
      <origin rpy="0.0 0.0 0.0" xyz="0.0 0.0 -0.0466596"/>
    </visual>
    <collision>
      <geometry>
        <mesh filename="package://r2_description/meshes/r2_upperbody/Right_Shoulder_Lower.dae"/>
      </geometry>
      <origin rpy="0.0 0.0 0.0" xyz="0.0 0.0 -0.0466596"/>
    </collision>
    <inertial>
      <origin xyz="0.034871718 0.00026989995  -0.056391797"/>
      <mass value="4.7275387"/>
      <inertia ixx="0.01281093" ixy="-0.000025211205" ixz="-0.0019887882" iyy="0.026994354" iyz="-0.000056988895" izz="0.028670313"/>
    </inertial>
  </link>
  <joint name="r2/right_arm/joint2" type="revolute">
    <parent link="r2/right_shoulder_pitch"/>
    <child link="r2/right_upper_arm"/>
    <origin rpy="-1.5708 0.0 -1.5708" xyz="0.169324 0 -0.0458976"/>
    <axis xyz="0 0 1"/>
    <dynamics damping="10.0" friction="0.0"/>
    <limit effort="100.0" lower="0.3318" upper="4.5028" velocity="1000"/>
  </joint>
  <link name="r2/right_upper_arm">
    <visual>
      <geometry>
        <mesh filename="package://r2_description/meshes/r2_upperbody/Right_Upper_Arm.dae"/>
      </geometry>
      <material name="dirty_white"/>
      <origin rpy="0.0 0.0 0.0" xyz="0.0 0.0 -0.067724"/>
    </visual>
    <collision>
      <geometry>
        <mesh filename="package://r2_description/meshes/r2_upperbody/Right_Upper_Arm.dae"/>
      </geometry>
      <origin rpy="0.0 0.0 0.0" xyz="0.0 0.0 -0.067724"/>
    </collision>
    <inertial>
      <origin xyz="0.011979384 -0.0073390714 0.079871897"/>
      <mass value="4.9025709"/>
      <inertia ixx="0.044036190" ixy="0.0013812407" ixz="-0.0068318982" iyy="0.048358309" iyz="0.0035598559" izz="0.016564943"/>
    </inertial>
  </link>
  <joint name="r2/right_arm/joint3" type="revolute">
    <parent link="r2/right_upper_arm"/>
    <child link="r2/right_elbow"/>
    <origin rpy="0.0 -1.5708 1.5708" xyz="0.05334 -0.0313243 0.185006"/>
    <axis xyz="0 0 1"/>
    <dynamics damping="1.0" friction="0.0"/>
    <limit effort="100.0" lower="-2.7930" upper="0.0" velocity="1000"/>
  </joint>
  <link name="r2/right_elbow">
    <visual>
      <geometry>
        <mesh filename="package://r2_description/meshes/r2_upperbody/Right_Elbow.dae"/>
      </geometry>
      <material name="dirty_white"/>
      <origin rpy="0 0.0 0" xyz="0 0 -0.0313243"/>
    </visual>
    <collision>
      <geometry>
        <mesh filename="package://r2_description/meshes/r2_upperbody/Right_Elbow.dae"/>
      </geometry>
      <origin rpy="0 0.0 0" xyz="0 0 -0.0313243"/>
    </collision>
    <inertial>
      <origin xyz="0.035398630 0.025517855  -0.036241795"/>
      <mass value="2.3377006"/>
      <inertia ixx="0.0067529558" ixy="-0.0026092481" ixz="-0.00060380235" iyy="0.0080987220" iyz="-0.00047453566" izz="0.009863562"/>
    </inertial>
  </link>
  <joint name="r2/right_arm/joint4" type="revolute">
    <parent link="r2/right_elbow"/>
    <child link="r2/right_joint4_output"/>
    <origin rpy="-0.9550 1.5708 -0.9550" xyz="0.0541223 0.0533300 -0.0305397"/>
    <axis xyz="0 0 1"/>
    <dynamics damping="1.0" friction="0.0"/>
    <limit effort="100.0" lower="-4.6770" upper="1.5360" velocity="1000"/>
  </joint>
  <link name="r2/right_joint4_output">
    <inertial>
      <mass value="0.01"/>
      <inertia ixx="0.0001" ixy="0.0" ixz="0.0" iyy="0.0001" iyz="0.0" izz="0.0001"/>
    </inertial>
  </link>
  <joint name="r2/fixed/right_lower_arm/right_forearm_jr3" type="fixed">
    <parent link="r2/right_joint4_output"/>
    <child link="r2/right_arm/forearm/jr3"/>
    <origin rpy="3.1416 0.0 0.78539" xyz="0.0 0.0 0.0897574"/>
  </joint>
  <link name="r2/right_arm/forearm/jr3">
    <inertial>
      <mass value="0.01"/>
      <inertia ixx="0.0001" ixy="0.0" ixz="0.0" iyy="0.0001" iyz="0.0" izz="0.0001"/>
    </inertial>
  </link>
  <joint name="r2/fixed/right_lower_arm/right_forearm" type="fixed">
    <parent link="r2/right_arm/forearm/jr3"/>
    <child link="r2/right_lower_arm"/>
    <origin rpy="3.1416 0.0 0.7854" xyz="0.0 0.0 0.0897574"/>
  </joint>
  <link name="r2/right_lower_arm">
    <visual>
      <geometry>
        <mesh filename="package://r2_description/meshes/r2_upperbody/Right_Forearm.dae"/>
      </geometry>
      <material name="dirty_white"/>
      <origin rpy="0 0 1.5708" xyz="0 0.0 0.0458777"/>
    </visual>
    <collision>
      <geometry>
        <mesh filename="package://r2_description/meshes/r2_upperbody/Right_Forearm.dae"/>
      </geometry>
      <origin rpy="0 0 1.5708" xyz="0 0.0 0.0458777"/>
    </collision>
    <inertial>
      <origin xyz="0.0039950818 0.00044312736  0.16275601"/>
      <mass value="8.1525875"/>
      <inertia ixx="0.10706156" ixy="0.00070538028" ixz="-0.0061176777" iyy="0.11007507" iyz="0.0020551081" izz="0.015240452"/>
    </inertial>
  </link>
  <joint name="r2/right_arm/wrist/pitch" type="revolute">
    <parent link="r2/right_lower_arm"/>
    <child link="r2/right_wrist_pitch"/>
    <origin rpy="0 -1.5708 0" xyz="-0.000616510 0 0.301768"/>
    <axis xyz="0 0 1"/>
    <dynamics damping="1.0" friction="0.0"/>
    <limit effort="100.0" lower="-0.8" upper="0.8" velocity="1000"/>
  </joint>
  <link name="r2/right_wrist_pitch">
    <inertial>
      <origin xyz="0.0 0.0 0.0"/>
      <mass value="0.01"/>
      <inertia ixx=".0001" ixy="0.0" ixz="0.0" iyy="0.0001" iyz="0.0" izz="0.0001"/>
    </inertial>
  </link>
  <joint name="r2/right_arm/wrist/yaw" type="revolute">
    <parent link="r2/right_wrist_pitch"/>
    <child link="r2/right_wrist_yaw"/>
    <origin rpy="1.5708 0.0646 -0.0802" xyz="0.00635 0 -0.00041451"/>
    <axis xyz="0 0 1"/>
    <dynamics damping="1.0" friction="0.0"/>
    <limit effort="100.0" lower="-0.15" upper="0.75" velocity="1000"/>
  </joint>
  <link name="r2/right_wrist_yaw">
    <inertial>
      <origin xyz="0.0 0.0 0.0"/>
      <mass value="0.01"/>
      <inertia ixx="0.0001" ixy="0.0" ixz="0.0" iyy="0.0001" iyz="0.0" izz="0.0001"/>
    </inertial>
  </link>
  <joint name="r2/fixed/right_wrist_yaw/right_palm" type="fixed">
    <parent link="r2/right_wrist_yaw"/>
    <child link="r2/right_palm"/>
    <origin rpy=" 0.0 0.0 0" xyz=" 0.0 0.0 0.0"/>
  </joint>
  <link name="r2/right_palm">
    <visual>
      <geometry>
        <mesh filename="package://r2_description/meshes/r2_upperbody/Right_Palm.dae"/>
      </geometry>
      <origin rpy="3.1416 0 1.5708" xyz="0.0 0.0 0.0"/>
    </visual>
    <collision>
      <geometry>
        <mesh filename="package://r2_description/meshes/r2_upperbody/Right_Palm.dae"/>
      </geometry>
      <origin rpy="3.1416 0 1.5708" xyz="0.0 0.0 0.0"/>
    </collision>
    <inertial>
      <mass value="0.01"/>
      <inertia ixx="0.0001" ixy="0.0" ixz="0.0" iyy="0.0001" iyz="0.0" izz="0.0001"/>
    </inertial>
  </link>
  <!--
  <property name="right_arm_hand_index_j3_damping" value= "0.1" />
  <property name="right_arm_hand_index_j3_friction" value= "0.0" />
-->
  <!--
  <property name="right_arm_hand_middle_j3_damping" value= "0.1" />
  <property name="right_arm_hand_middle_j3_friction" value= "0.0" />
-->
  <!--
  <property name="right_arm_hand_ring_j1_damping" value= "0.1" />
  <property name="right_arm_hand_ring_j1_friction" value= "0.0" />
  <property name="right_arm_hand_ring_j2_damping" value= "0.1" />
  <property name="right_arm_hand_ring_j2_friction" value= "0.0" />
-->
  <!--
  <property name="right_arm_hand_little_j1_damping" value= "0.1" />
  <property name="right_arm_hand_little_j1_friction" value= "0.0" />
  <property name="right_arm_hand_little_j2_damping" value= "0.1" />
  <property name="right_arm_hand_little_j2_friction" value= "0.0" />
-->
  <joint name="r2/right_arm/hand/thumb/roll" type="revolute">
    <parent link="r2/right_wrist_yaw"/>
    <child link="r2/right_thumb_base"/>
    <origin rpy=" 1.5708 0.174532791018 -1.30899687745 " xyz="0.03302 -0.03048 0.00635 "/>
    <axis xyz="0 0 1"/>
    <limit effort="10000000.0" lower="-4" upper="4" velocity="1000"/>
    <dynamics damping="0.1" friction="0.0"/>
  </joint>
  <joint name="r2/fixed/right_index_base/right_index_base" type="fixed">
    <parent link="r2/right_wrist_yaw"/>
    <child link="r2/right_index_base"/>
    <origin rpy=" 0.0 0.0 -0.122172725275  " xyz=" 0.0994646728 -0.0271119346 -0.0161544 "/>
  </joint>
  <joint name="r2/right_arm/hand/index/yaw" type="revolute">
    <parent link="r2/right_index_base"/>
    <child link="r2/right_index_yaw"/>
    <origin rpy="0.0 0.0 0.0" xyz="0.0 0.0 0.0"/>
    <axis xyz="0 0 1"/>
    <limit effort="10000000.0" lower="-4" upper="4" velocity="1000"/>
    <dynamics damping="0.1" friction="0.0"/>
  </joint>
  <joint name="r2/fixed/right_middle_base/right_middle_base" type="fixed">
    <parent link="r2/right_wrist_yaw"/>
    <child link="r2/right_middle_base"/>
    <origin rpy=" 0.0 0.0 0.0 " xyz="0.10646537 -0.00254 -0.0161544 "/>
  </joint>
  <joint name="r2/right_arm/hand/middle/yaw" type="revolute">
    <parent link="r2/right_middle_base"/>
    <child link="r2/right_middle_yaw"/>
    <origin rpy="0.0 0.0 0.0" xyz="0.0 0.0 0.0"/>
    <axis xyz="0 0 1"/>
    <limit effort="10000000.0" lower="-4" upper="4" velocity="1000"/>
    <dynamics damping="0.1" friction="0.0"/>
  </joint>
  <joint name="r2/right_arm/hand/ringlittle/ring" type="revolute">
    <parent link="r2/right_wrist_yaw"/>
    <child link="r2/right_ring_proximal"/>
    <origin rpy=" 1.57079632679 -0.0 0.122172725275  " xyz=" 0.1084539614 0.019792569 -0.012319 "/>
    <axis xyz="0 0 1"/>
    <limit effort="10000000.0" lower="-4" upper="4" velocity="1000"/>
    <dynamics damping="0.1" friction="0.0"/>
  </joint>
  <joint name="r2/right_arm/hand/ringlittle/little" type="revolute">
    <parent link="r2/right_wrist_yaw"/>
    <child link="r2/right_little_proximal"/>
    <origin rpy=" 1.53588943985 -0.0872667473393 0.17453258148  " xyz=" 0.094635701 0.0403792436 -0.0060878212 "/>
    <axis xyz="0 0 1"/>
    <limit effort="10000000.0" lower="-4" upper="4" velocity="1000"/>
    <dynamics damping="0.1" friction="0.0"/>
  </joint>
  <link name="r2/right_thumb_base">
    <inertial>
      <mass value=".05"/>
      <inertia ixx=".0010" ixy="0.0" ixz="0.0" iyy=".0010" iyz="0.0" izz=".0010"/>
    </inertial>
  </link>
  <joint name="r2/fixed/right_thumb_base/right_thumb_proximal" type="fixed">
    <parent link="r2/right_thumb_base"/>
    <child link="r2/right_thumb_proximal"/>
    <origin rpy=" -1.5708 -0.0 0.0 " xyz=" 0.011938 0.0 0.0 "/>
  </joint>
  <link name="r2/right_thumb_proximal">
    <inertial>
      <mass value=".05"/>
      <inertia ixx=".0010" ixy="0.0" ixz="0.0" iyy=".0010" iyz="0.0" izz=".0010"/>
    </inertial>
    <visual>
      <geometry>
        <mesh filename="package://r2_description/meshes/r2_upperbody/Left_Thumb_Carp.dae"/>
      </geometry>
      <origin rpy="-1.5708 0 0" xyz="-0.01 0.0 0.0"/>
    </visual>
    <collision>
      <geometry>
        <mesh filename="package://r2_description/meshes/r2_upperbody/Left_Thumb_Carp.dae" scale="0.9 0.9 0.9"/>
      </geometry>
      <origin rpy="-1.5708 0 0" xyz="-0.01 0.0 0.0"/>
    </collision>
  </link>
  <joint name="r2/right_arm/hand/thumb/proximal" type="revolute">
    <parent link="r2/right_thumb_proximal"/>
    <child link="r2/right_thumb_medial_prime"/>
    <origin rpy=" 0.0 0.0 0.0 " xyz=" 0.0 0.0 0.0 "/>
    <axis xyz="0 0 1"/>
    <limit effort="10000000.0" lower="-4" upper="4" velocity="1000"/>
    <dynamics damping="0.1" friction="0.0"/>
  </joint>
  <link name="r2/right_thumb_medial_prime">
    <inertial>
      <mass value=".05"/>
      <inertia ixx=".0010" ixy="0.0" ixz="0.0" iyy=".0010" iyz="0.0" izz=".0010"/>
    </inertial>
    <visual>
      <geometry>
        <mesh filename="package://r2_description/meshes/r2_upperbody/Right_Thumb_MtCar.dae"/>
      </geometry>
      <origin rpy="-1.5708 -1.5708 0 " xyz="-0.0 0 0.0"/>
    </visual>
    <collision>
      <geometry>
        <mesh filename="package://r2_description/meshes/r2_upperbody/Right_Thumb_MtCar.dae" scale="0.9 0.9 0.9"/>
      </geometry>
      <origin rpy="-1.5708 -1.5708 0 " xyz="-0.0 0 0.0"/>
    </collision>
  </link>
  <joint name="r2/right_arm/hand/thumb/medial" type="revolute">
    <parent link="r2/right_thumb_medial_prime"/>
    <child link="r2/right_thumb_medial"/>
    <origin rpy=" 0.698132284627 0.0 0.0 " xyz=" 0.030734 -0.001905 -0.00254 "/>
    <axis xyz="0 0 1"/>
    <limit effort="10000000.0" lower="-4" upper="4" velocity="1000"/>
    <dynamics damping="0.1" friction="0.0"/>
  </joint>
  <link name="r2/right_thumb_medial">
    <inertial>
      <mass value=".05"/>
      <inertia ixx=".0010" ixy="0.0" ixz="0.0" iyy=".0010" iyz="0.0" izz=".0010"/>
    </inertial>
    <visual>
      <geometry>
        <mesh filename="package://r2_description/meshes/r2_upperbody/Thumb_Proximal.dae"/>
      </geometry>
      <origin rpy="3.1416 0 1.5708" xyz="0.0 0.0 0.0"/>
    </visual>
    <collision>
      <geometry>
        <mesh filename="package://r2_description/meshes/r2_upperbody/Thumb_Proximal.dae"/>
      </geometry>
      <origin rpy="3.1416 0 1.5708" xyz="0.0 0.0 0.0"/>
    </collision>
  </link>
  <joint name="r2/right_arm/hand/thumb/distal" type="revolute">
    <parent link="r2/right_thumb_medial"/>
    <child link="r2/right_thumb_distal"/>
    <origin rpy=" 0.0 0.0 0.0 " xyz=" 0.03937 0.0 0.0 "/>
    <axis xyz="0 0 1"/>
    <limit effort="10000000.0" lower="-4" upper="4" velocity="1000"/>
    <dynamics damping="0.1" friction="0.0"/>
  </joint>
  <link name="r2/right_thumb_distal">
    <inertial>
      <mass value=".05"/>
      <inertia ixx=".0010" ixy="0.0" ixz="0.0" iyy=".0010" iyz="0.0" izz=".0010"/>
    </inertial>
    <visual>
      <geometry>
        <mesh filename="package://r2_description/meshes/r2_upperbody/Thumb_Dist.dae"/>
      </geometry>
      <origin rpy="3.1416 3.1416 0" xyz="0.0 0.0 0.0"/>
    </visual>
    <collision>
      <geometry>
        <mesh filename="package://r2_description/meshes/r2_upperbody/Thumb_Dist.dae"/>
      </geometry>
      <origin rpy="3.1416 3.1416 0" xyz="0.0 0.0 0.0"/>
    </collision>
  </link>
  <joint name="r2/fixed/right_thumb_distal/right_thumb_tip" type="fixed">
    <parent link="r2/right_thumb_distal"/>
    <child link="r2/right_thumb_tip"/>
    <origin rpy=" 0.0 0.0 0.0 " xyz=" 0.03302 0.0 0.0 "/>
  </joint>
  <link name="r2/right_thumb_tip">
    <inertial>
      <mass value=".05"/>
      <inertia ixx=".0010" ixy="0.0" ixz="0.0" iyy=".0010" iyz="0.0" izz=".0010"/>
    </inertial>
  </link>
  <link name="r2/right_index_base">
    <inertial>
      <mass value=".05"/>
      <inertia ixx=".0010" ixy="0.0" ixz="0.0" iyy=".0010" iyz="0.0" izz=".0010"/>
    </inertial>
  </link>
  <link name="r2/right_index_yaw">
    <inertial>
      <mass value=".05"/>
      <inertia ixx=".0010" ixy="0.0" ixz="0.0" iyy=".0010" iyz="0.0" izz=".0010"/>
    </inertial>
  </link>
  <joint name="r2/right_arm/hand/index/proximal" type="revolute">
    <parent link="r2/right_index_yaw"/>
    <child link="r2/right_index_proximal"/>
    <origin rpy=" 1.5708 -0.0 0.0 " xyz=" 0.009652 0.0 0.0 "/>
    <axis xyz="0 0 1"/>
    <limit effort="10000000.0" lower="-4" upper="4" velocity="1000"/>
    <dynamics damping="0.1" friction="0.0"/>
  </joint>
  <link name="r2/right_index_proximal">
    <inertial>
      <mass value=".05"/>
      <inertia ixx=".0010" ixy="0.0" ixz="0.0" iyy=".0010" iyz="0.0" izz=".0010"/>
    </inertial>
    <visual>
      <geometry>
        <mesh filename="package://r2_description/meshes/r2_upperbody/Finger_Proximal.dae"/>
      </geometry>
      <origin rpy="0 0 1.5708" xyz="0.0 0.0 0.0"/>
    </visual>
    <collision>
      <geometry>
        <mesh filename="package://r2_description/meshes/r2_upperbody/Finger_Proximal.dae"/>
      </geometry>
      <origin rpy="0 0 1.5708" xyz="0.0 0.0 0.0"/>
    </collision>
  </link>
  <joint name="r2/right_arm/hand/index/medial" type="revolute">
    <parent link="r2/right_index_proximal"/>
    <child link="r2/right_index_medial"/>
    <origin rpy=" 0.0 0.0 0.0 " xyz=" 0.04445 0.0 0.0 "/>
    <axis xyz="0 0 1"/>
    <limit effort="10000000.0" lower="-4" upper="4" velocity="1000"/>
    <dynamics damping="0.1" friction="0.0"/>
  </joint>
  <link name="r2/right_index_medial">
    <inertial>
      <mass value=".05"/>
      <inertia ixx=".0010" ixy="0.0" ixz="0.0" iyy=".0010" iyz="0.0" izz=".0010"/>
    </inertial>
    <visual>
      <geometry>
        <mesh filename="package://r2_description/meshes/r2_upperbody/Finger_Mid.dae"/>
      </geometry>
      <origin rpy="3.1416 0 1.5708" xyz="0.0 0.0 0.0"/>
    </visual>
    <collision>
      <geometry>
        <mesh filename="package://r2_description/meshes/r2_upperbody/Finger_Mid.dae"/>
      </geometry>
      <origin rpy="3.1416 0 1.5708" xyz="0.0 0.0 0.0"/>
    </collision>
  </link>
  <link name="r2/right_middle_base">
    <inertial>
      <mass value=".0010"/>
      <inertia ixx=".0010" ixy="0.0" ixz="0.0" iyy=".0010" iyz="0.0" izz=".0010"/>
    </inertial>
  </link>
  <link name="r2/right_middle_yaw">
    <inertial>
      <mass value=".0010"/>
      <inertia ixx=".0010" ixy="0.0" ixz="0.0" iyy=".0010" iyz="0.0" izz=".0010"/>
    </inertial>
  </link>
  <joint name="r2/right_arm/hand/middle/proximal" type="revolute">
    <parent link="r2/right_middle_yaw"/>
    <child link="r2/right_middle_proximal"/>
    <origin rpy=" 1.5708 -0.0 0.0 " xyz=" 0.009652 0.0 0.0 "/>
    <axis xyz="0 0 1"/>
    <limit effort="10000000.0" lower="-4" upper="4" velocity="1000"/>
    <dynamics damping="0.1" friction="0.0"/>
  </joint>
  <link name="r2/right_middle_proximal">
    <inertial>
      <mass value=".05"/>
      <inertia ixx=".0010" ixy="0.0" ixz="0.0" iyy=".0010" iyz="0.0" izz=".0010"/>
    </inertial>
    <visual>
      <geometry>
        <mesh filename="package://r2_description/meshes/r2_upperbody/Finger_Proximal.dae"/>
      </geometry>
      <origin rpy="0 0 1.5708" xyz="0.0 0.0 0.0"/>
    </visual>
    <collision>
      <geometry>
        <mesh filename="package://r2_description/meshes/r2_upperbody/Finger_Proximal.dae" scale="0.9 0.9 0.9"/>
      </geometry>
      <origin rpy="0 0 1.5708" xyz="0.0 0.0 0.0"/>
    </collision>
  </link>
  <joint name="r2/right_arm/hand/middle/medial" type="revolute">
    <parent link="r2/right_middle_proximal"/>
    <child link="r2/right_middle_medial"/>
    <origin rpy=" 0.0 0.0 0.0 " xyz=" 0.04445 0.0 0.0 "/>
    <axis xyz="0 0 1"/>
    <limit effort="10000000.0" lower="-4" upper="4" velocity="1000"/>
    <dynamics damping="0.1" friction="0.0"/>
  </joint>
  <link name="r2/right_middle_medial">
    <inertial>
      <mass value=".05"/>
      <inertia ixx=".0010" ixy="0.0" ixz="0.0" iyy=".0010" iyz="0.0" izz=".0010"/>
    </inertial>
    <visual>
      <geometry>
        <mesh filename="package://r2_description/meshes/r2_upperbody/Finger_Mid.dae"/>
      </geometry>
      <origin rpy="3.1416 0 1.5708" xyz="0.0 0.0 0.0"/>
    </visual>
    <collision>
      <geometry>
        <mesh filename="package://r2_description/meshes/r2_upperbody/Finger_Mid.dae" scale="0.9 0.9 0.9"/>
      </geometry>
      <origin rpy="3.1416 0 1.5708" xyz="0.0 0.0 0.0"/>
    </collision>
  </link>
  <link name="r2/right_ring_proximal">
    <inertial>
      <mass value=".05"/>
      <inertia ixx=".0010" ixy="0.0" ixz="0.0" iyy=".0010" iyz="0.0" izz=".0010"/>
    </inertial>
    <visual>
      <geometry>
        <mesh filename="package://r2_description/meshes/r2_upperbody/Finger_Proximal.dae"/>
      </geometry>
      <origin rpy="0 0 1.5708" xyz="0.0 0.0 0.0"/>
    </visual>
    <collision>
      <geometry>
        <mesh filename="package://r2_description/meshes/r2_upperbody/Finger_Proximal.dae" scale="0.9 0.9 0.9"/>
      </geometry>
      <origin rpy="0 0 1.5708" xyz="0.0 0.0 0.0"/>
    </collision>
  </link>
  <link name="r2/right_little_proximal">
    <inertial>
      <mass value=".05"/>
      <inertia ixx=".0010" ixy="0.0" ixz="0.0" iyy=".0010" iyz="0.0" izz=".0010"/>
    </inertial>
    <visual>
      <geometry>
        <mesh filename="package://r2_description/meshes/r2_upperbody/Finger_Proximal.dae"/>
      </geometry>
      <origin rpy="0 0 1.5708" xyz="0.0 0.0 0.0"/>
    </visual>
    <collision>
      <geometry>
        <mesh filename="package://r2_description/meshes/r2_upperbody/Finger_Proximal.dae" scale="0.9 0.9 0.9"/>
      </geometry>
      <origin rpy="0 0 1.5708" xyz="0.0 0.0 0.0"/>
    </collision>
  </link>
</robot>
